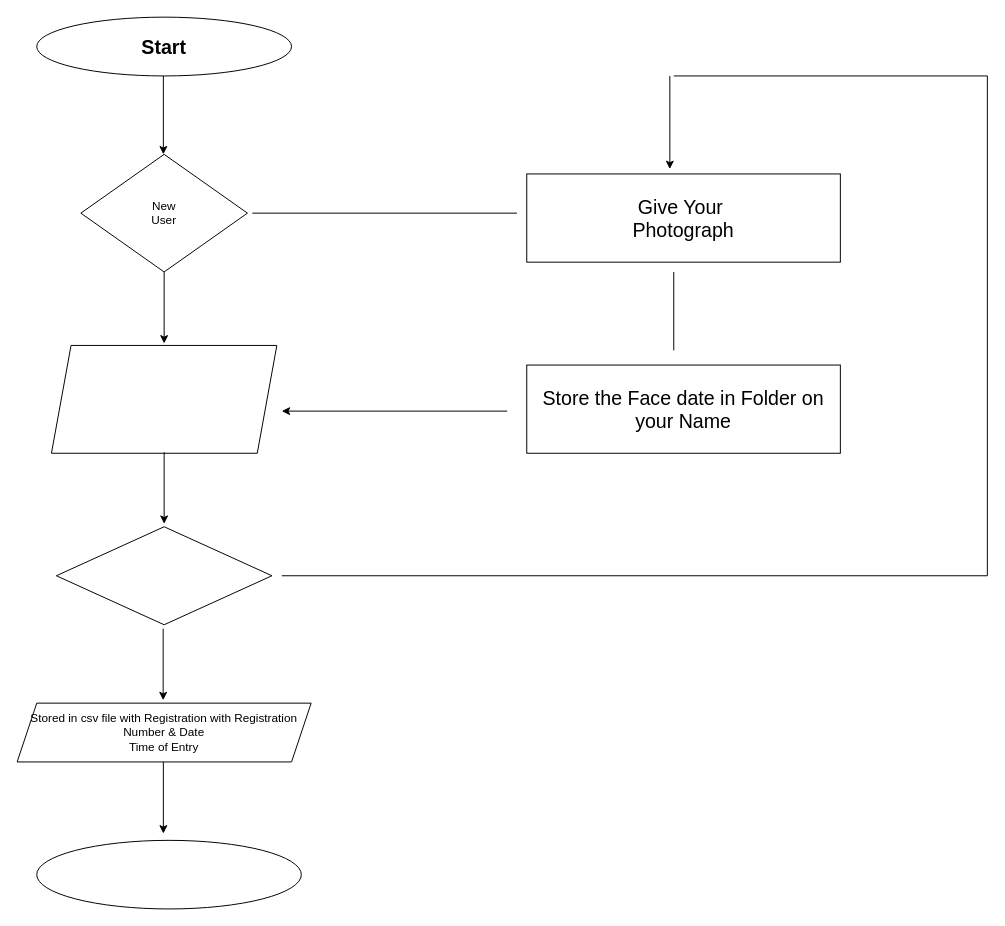
The diagram is 1005 pixels wide and 926 high, and some of its shapes have lost their labels. Each missing label, with the centre of its shape:
End: (x=168, y=874)
Face Recognized: (x=163, y=575)
Recognize the face: (x=163, y=398)
